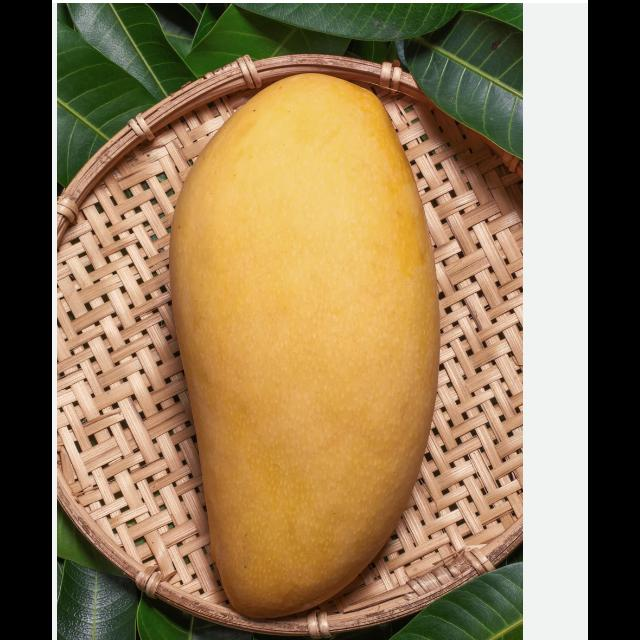mango: (171, 73, 439, 618)
